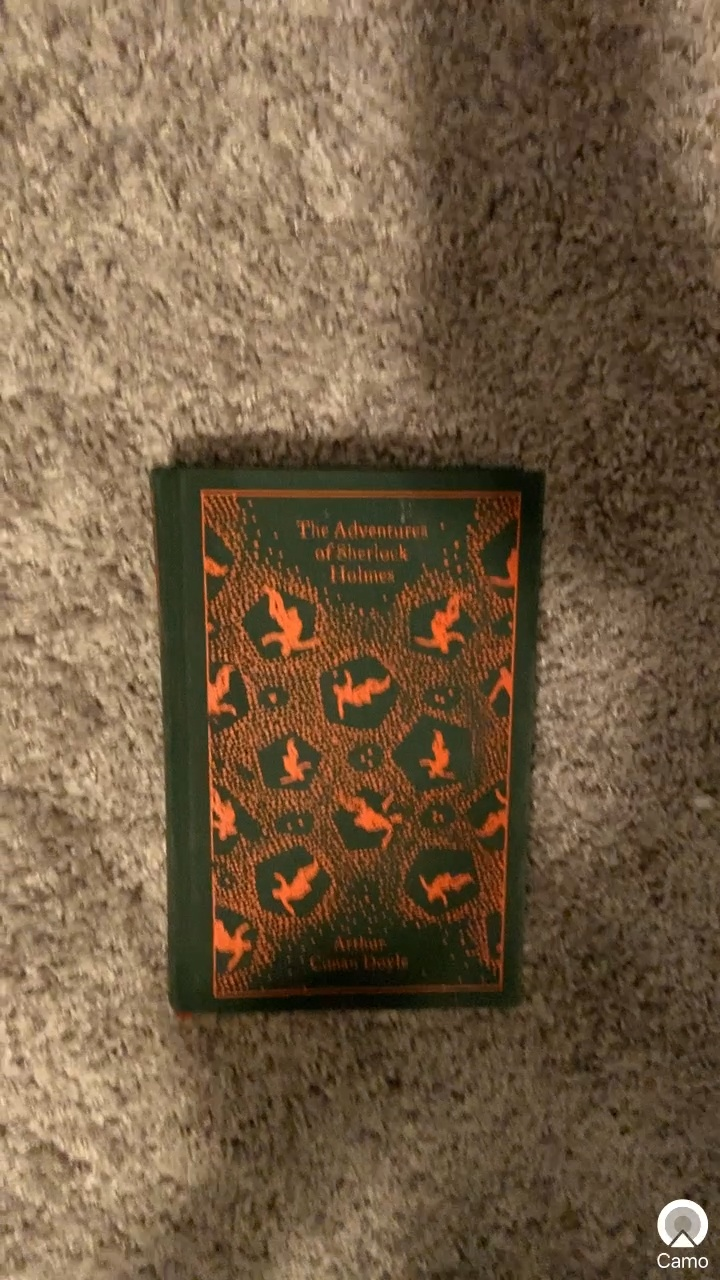Book: (128, 442, 541, 1032)
